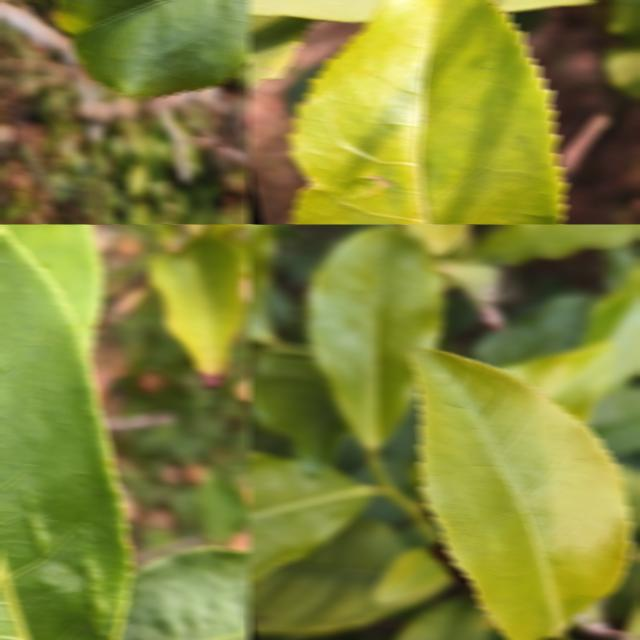Leaf: (408, 348, 631, 640), (290, 0, 564, 224), (0, 227, 131, 640), (305, 224, 444, 448), (248, 516, 437, 636), (54, 0, 250, 96), (248, 451, 374, 585), (146, 235, 244, 385), (0, 224, 102, 351), (117, 545, 250, 640), (248, 351, 347, 473), (502, 339, 613, 422), (582, 258, 640, 390), (475, 224, 640, 263), (371, 546, 454, 606), (248, 15, 313, 89), (392, 597, 492, 640), (248, 224, 277, 292), (248, 283, 277, 344)
